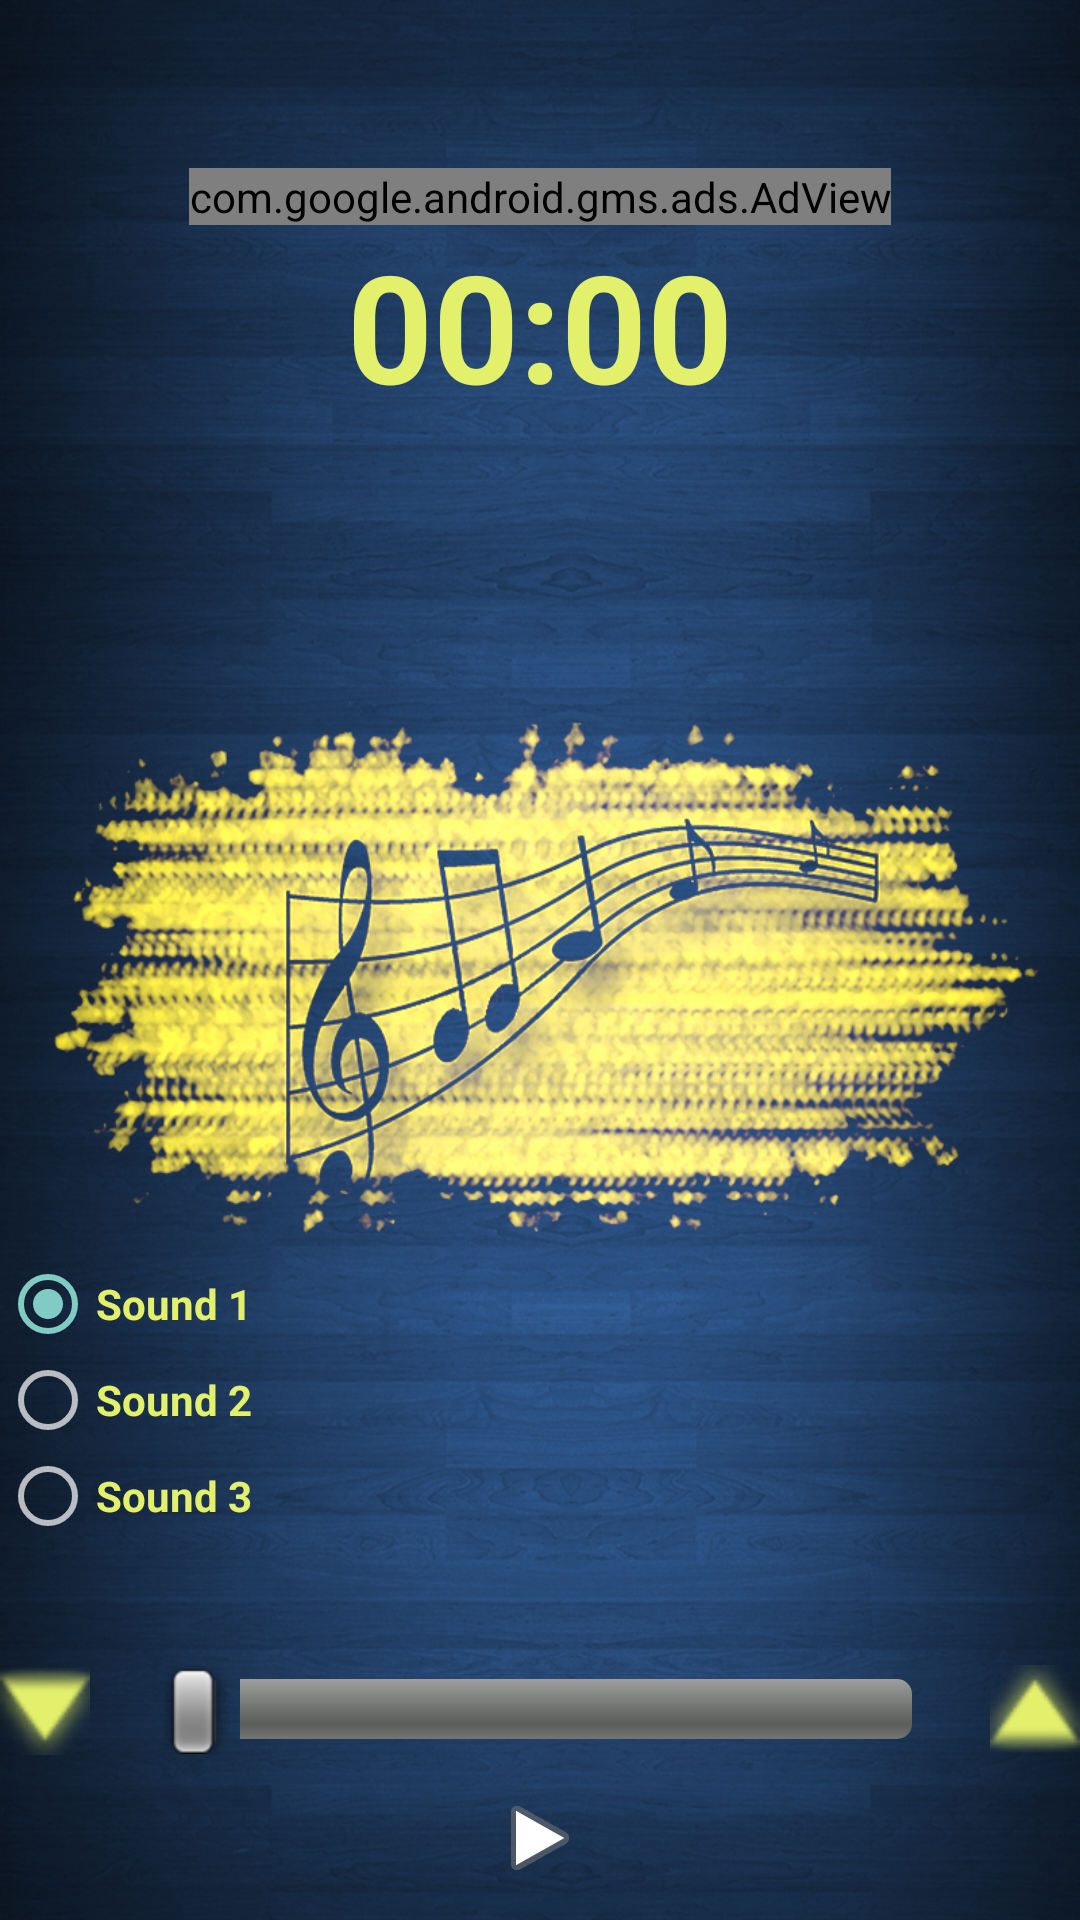

Named icons in this screenshot (1080 × 1920) and their bounding boxes, (x1, y1, x2, y2):
arrow down float: (0, 1671, 90, 1749)
arrow up float: (990, 1670, 1080, 1749)
